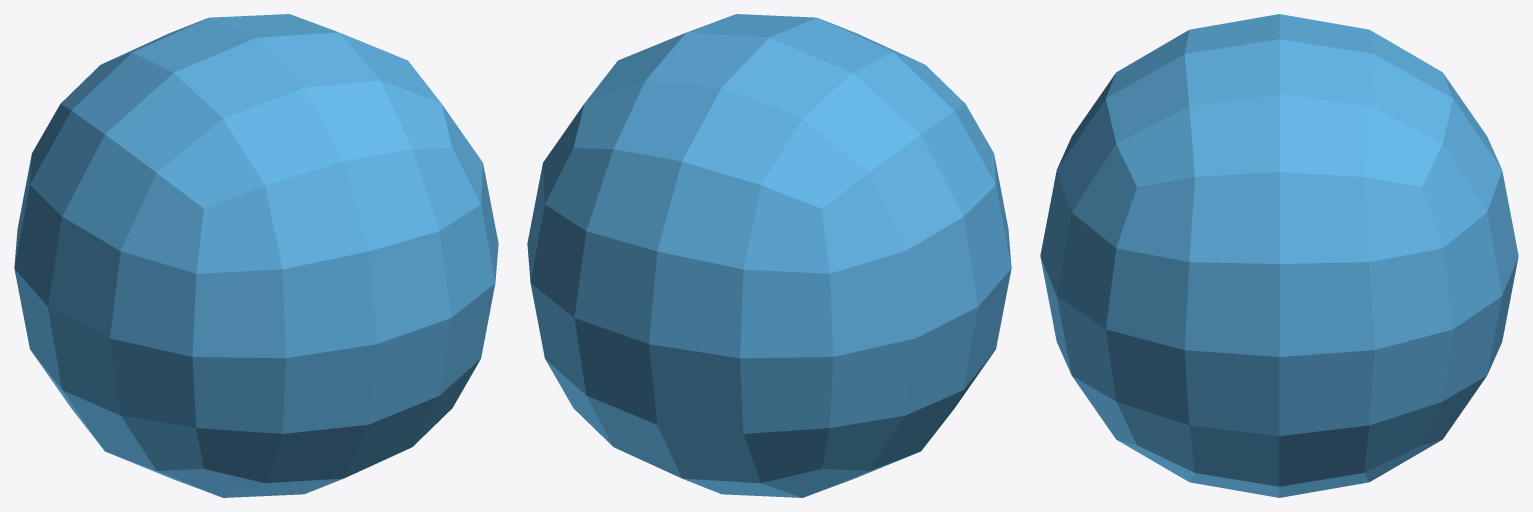
File: water-boss-jam.fbx
The picture shows the model from 3 angles, left to right: view 1: azimuth 30°, elevation 25°; view 2: azimuth 150°, elevation 25°; view 3: azimuth 270°, elevation 25°; orthographic projection.
Parts seen in each view (by area): view 1: OUTLINE; view 2: OUTLINE; view 3: OUTLINE.
Part boxes in pixels (x1,y1,x2,y2): OUTLINE: (14, 14, 498, 497); OUTLINE: (527, 14, 1011, 497); OUTLINE: (1040, 14, 1518, 497).
Size of the model in its own units: 174 by 174 by 174.
